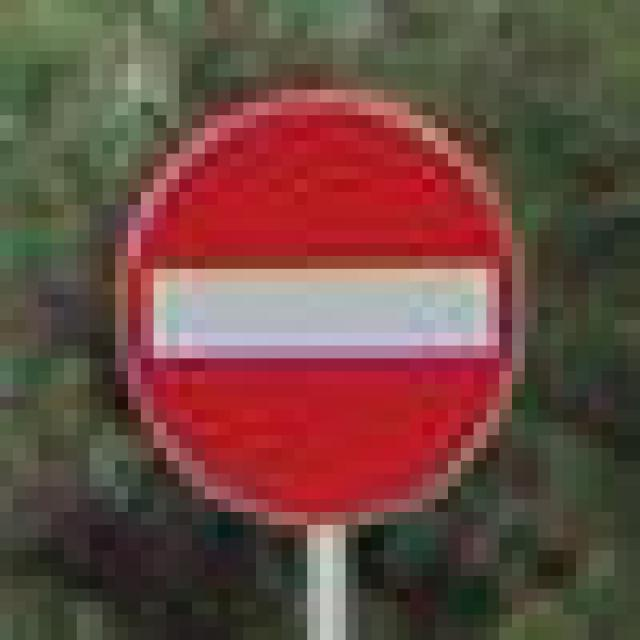NO_ENTRY: (102, 77, 525, 512)
